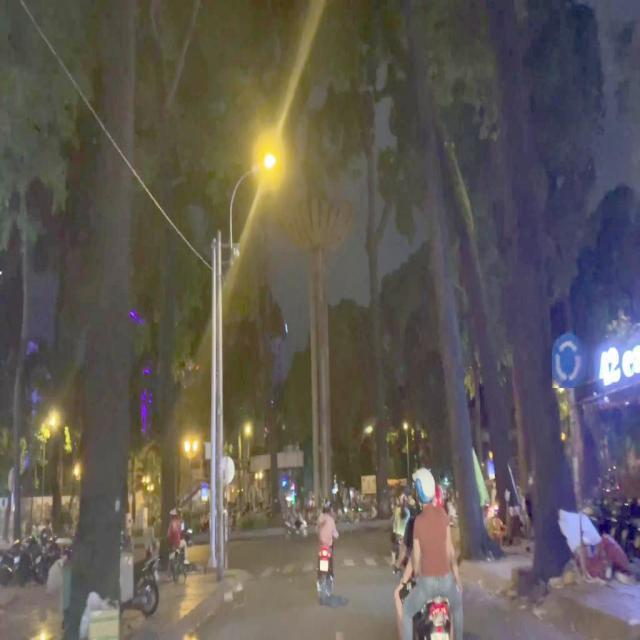303-noi-giao-nhau-chay-theo-vong-xuyen: (550, 332, 590, 388)
